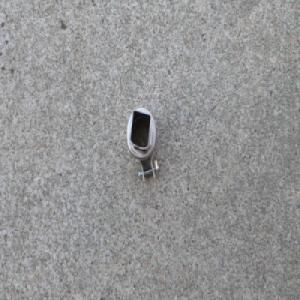MetalPart: (125, 106, 160, 186)
